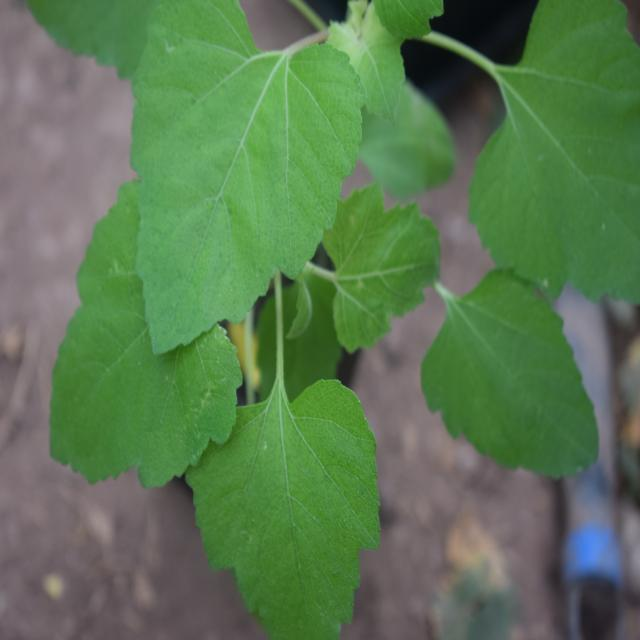cocklebur: (41, 18, 612, 575)
